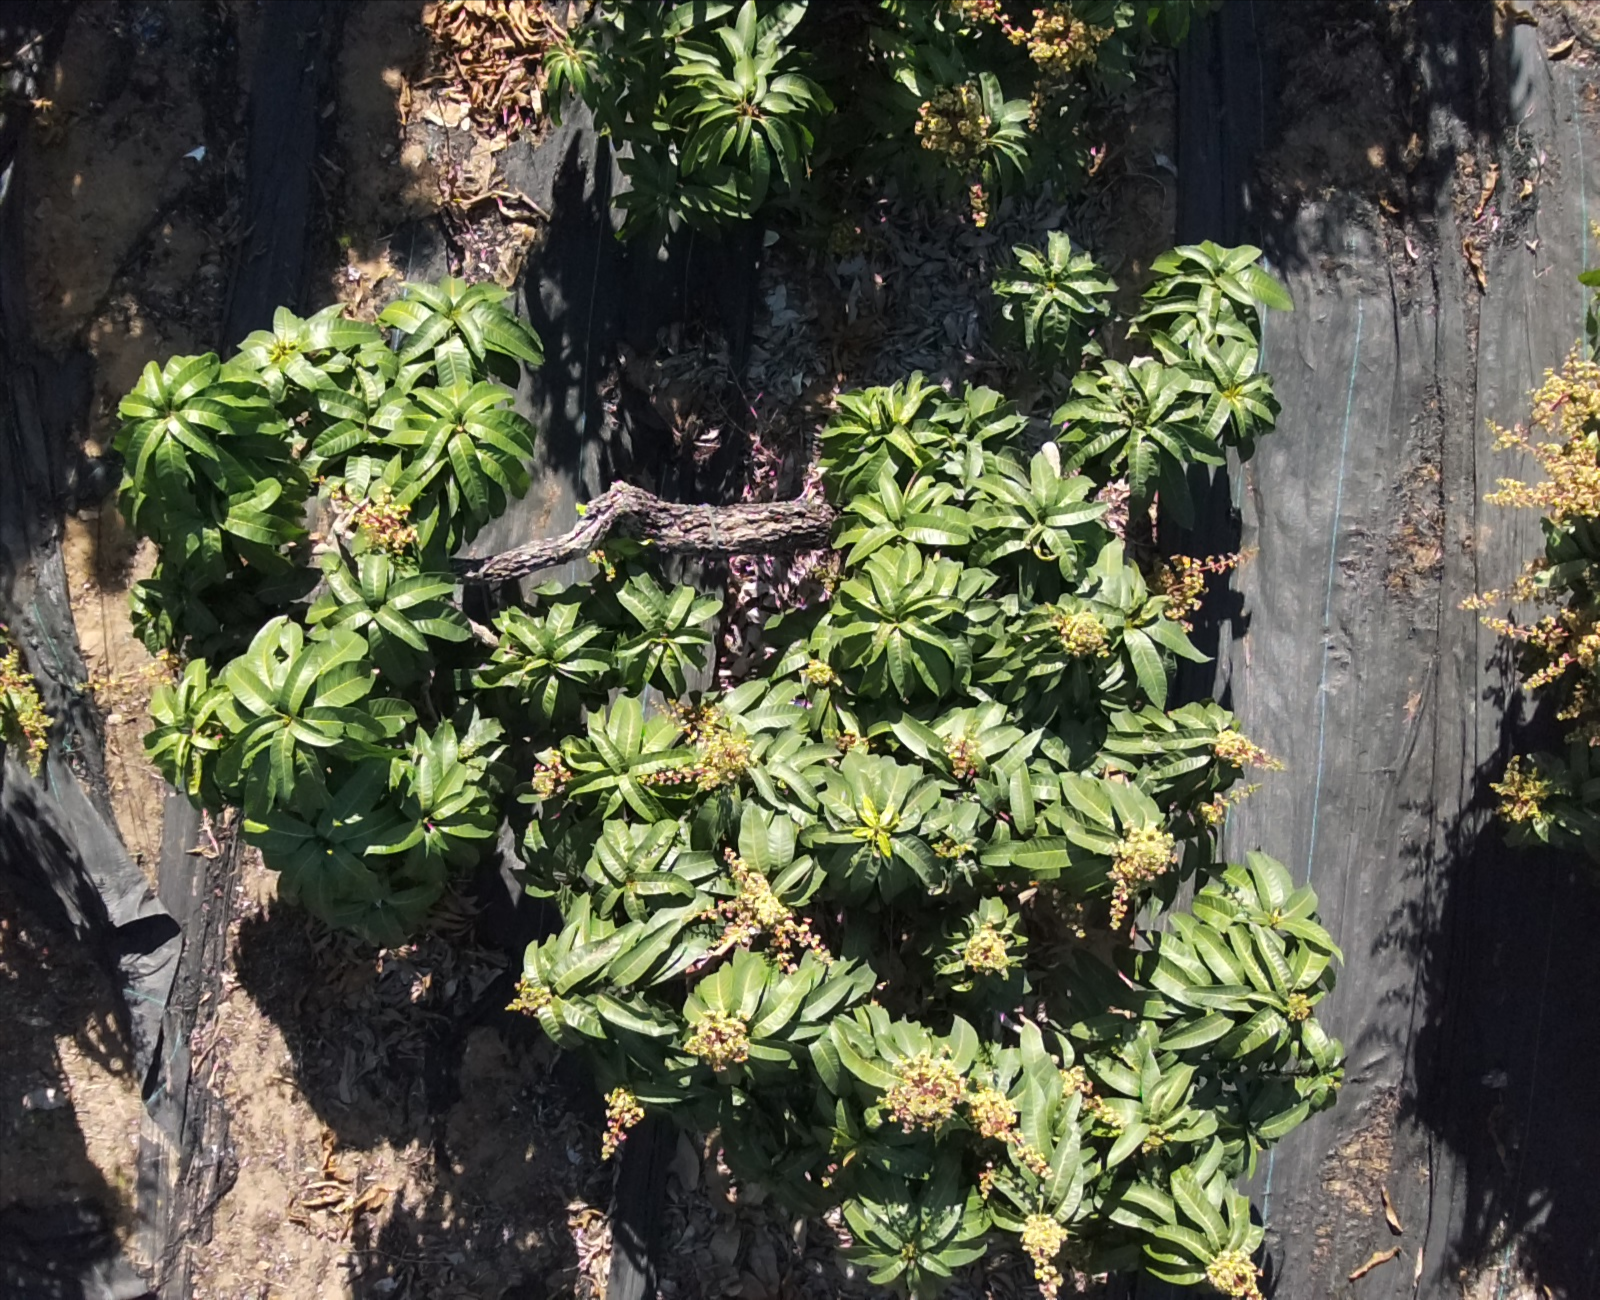flowers: (1462, 558, 1599, 746), (878, 1051, 1048, 1177), (1485, 350, 1599, 523), (702, 848, 831, 972), (643, 703, 752, 791), (1157, 551, 1254, 630), (318, 480, 418, 554), (1010, 4, 1110, 76), (1109, 822, 1175, 929), (0, 647, 50, 776), (914, 82, 988, 168), (961, 898, 1024, 975), (1061, 1065, 1122, 1134), (1490, 755, 1551, 822), (683, 1009, 750, 1071), (1022, 1212, 1067, 1299), (600, 1086, 645, 1159), (1205, 1250, 1264, 1299), (1214, 730, 1283, 769), (1052, 609, 1109, 657), (1198, 784, 1260, 826), (531, 749, 570, 799), (505, 978, 552, 1016), (947, 735, 983, 780), (949, 0, 1007, 24), (803, 659, 840, 686), (1286, 991, 1315, 1021), (968, 183, 988, 227), (978, 1163, 995, 1199), (1148, 493, 1160, 543)
